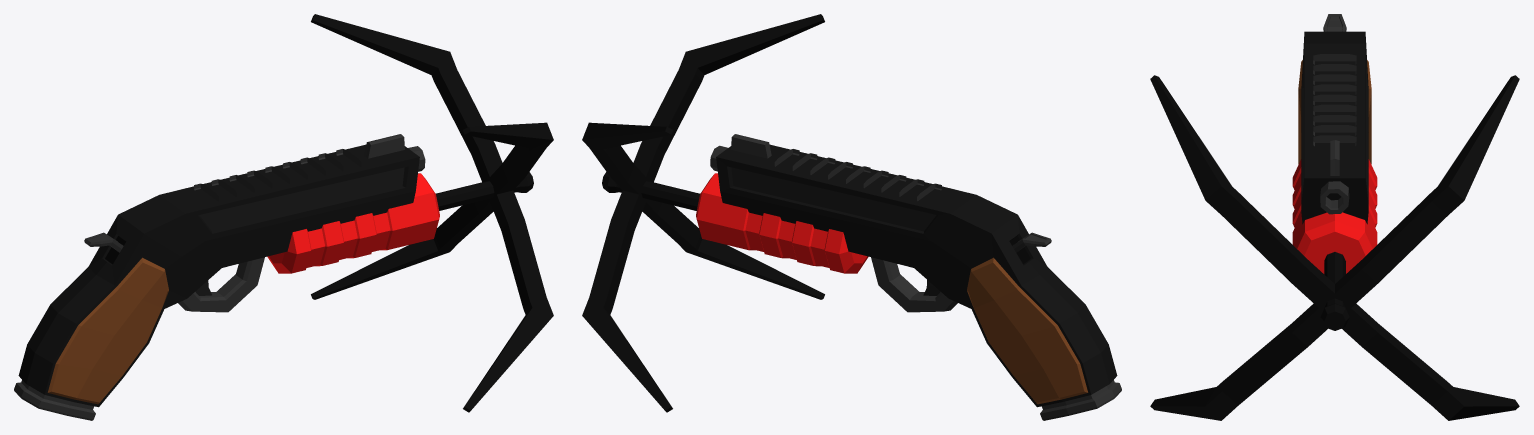
Rendered from GrappleHook04(2).fbx.
The picture shows the model from 3 angles, left to right: view 1: azimuth 30°, elevation 25°; view 2: azimuth 150°, elevation 25°; view 3: azimuth 270°, elevation 25°; orthographic projection. The views are drawn at different scales.
Visible parts, largest first — view 1: Gun, Grapple Hook; view 2: Gun, Grapple Hook; view 3: Grapple Hook, Gun.
Part boxes in pixels (bbox=[...]): Gun: bbox=[14, 134, 439, 420]; Grapple Hook: bbox=[311, 14, 553, 412]; Gun: bbox=[696, 134, 1121, 420]; Grapple Hook: bbox=[582, 14, 824, 412]; Grapple Hook: bbox=[1150, 75, 1519, 420]; Gun: bbox=[1292, 14, 1377, 273].
Bounding box in the file's own units: 17.14 × 9.22 × 9.22.
